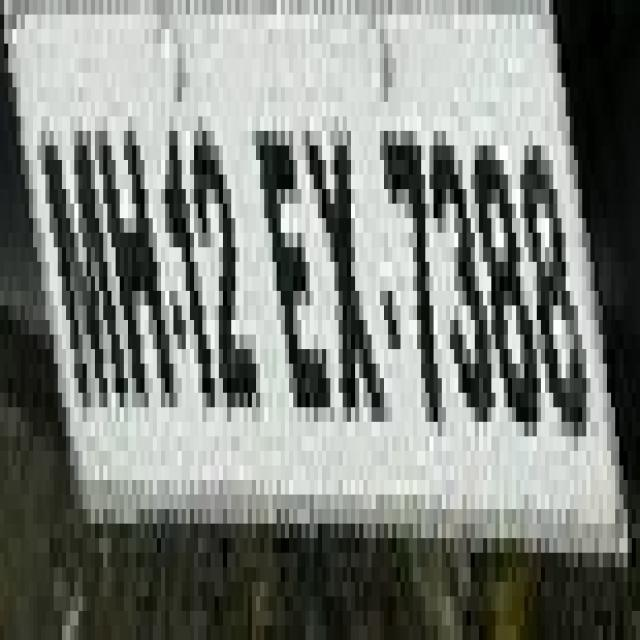license_plate: (0, 29, 607, 553)
